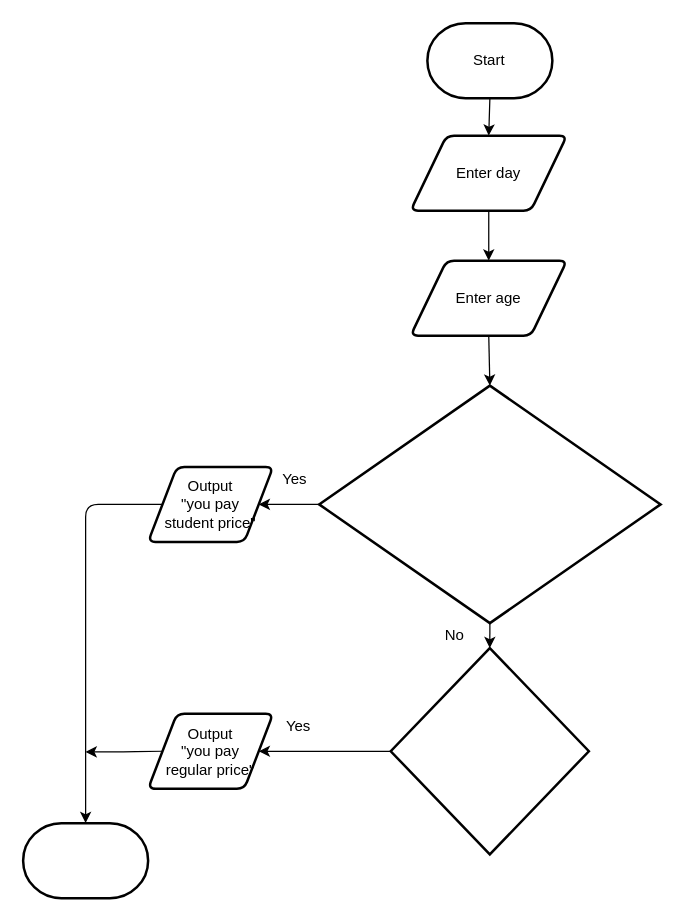
The diagram is 683 pixels wide and 920 high, and some of its shapes have lost their labels. The shapes that lost their labels are listed below. From the top down, each one's centre as x and y in pixels, then its label:
At point (489, 504): "if((tuesday == true || thursday == true) && (age > 12 && age < 21))".
At point (489, 750): "else".
At point (85, 860): "Stop".
